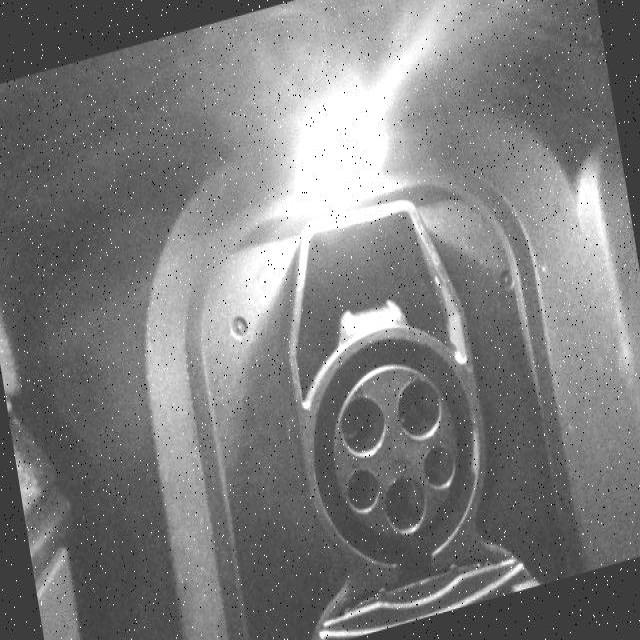Type 1: (312, 354, 490, 549)
